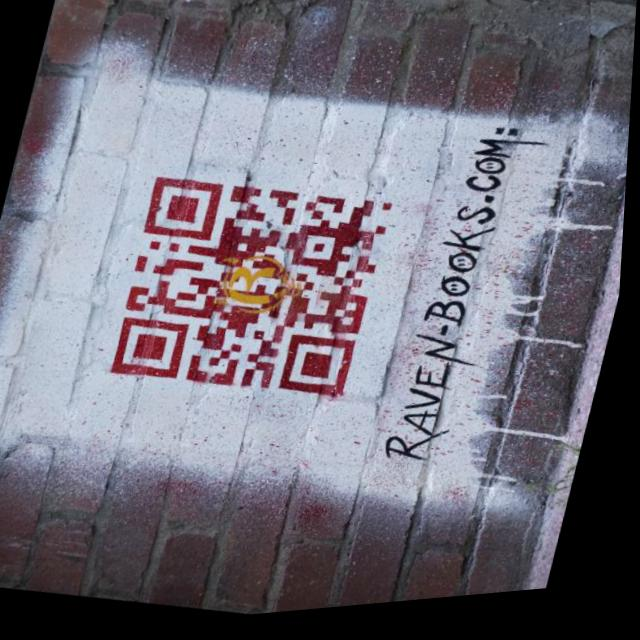qrcode: (112, 164, 399, 421)
